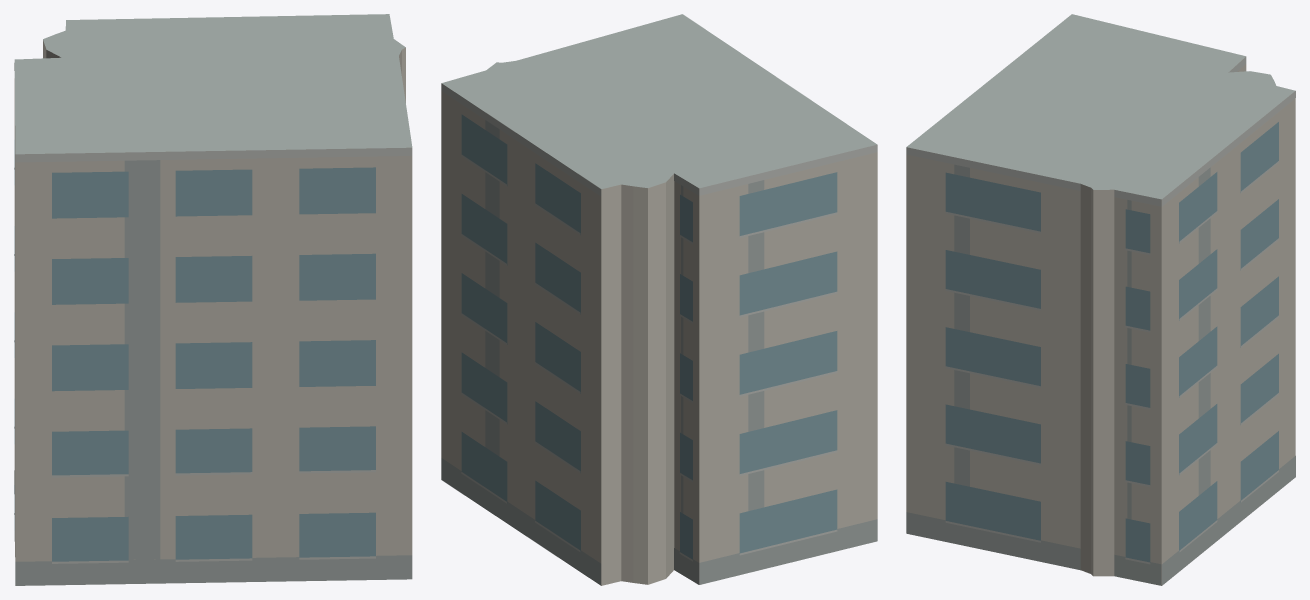
The model's file is survey-upis-33035894.glb.
3 renders of one model, left to right at view 1: azimuth 30°, elevation 25°; view 2: azimuth 150°, elevation 25°; view 3: azimuth 270°, elevation 25°, orthographic. The views are drawn at different scales.
Visible parts, largest first — view 1: survey-upis-33035894.tmp; view 2: survey-upis-33035894.tmp; view 3: survey-upis-33035894.tmp.
Part boxes in pixels (x1,y1,x2,y2): survey-upis-33035894.tmp: (14, 14, 412, 585); survey-upis-33035894.tmp: (441, 14, 877, 585); survey-upis-33035894.tmp: (906, 14, 1295, 585).
Size of the model in its own units: 13.18 by 12.8 by 11.7.
